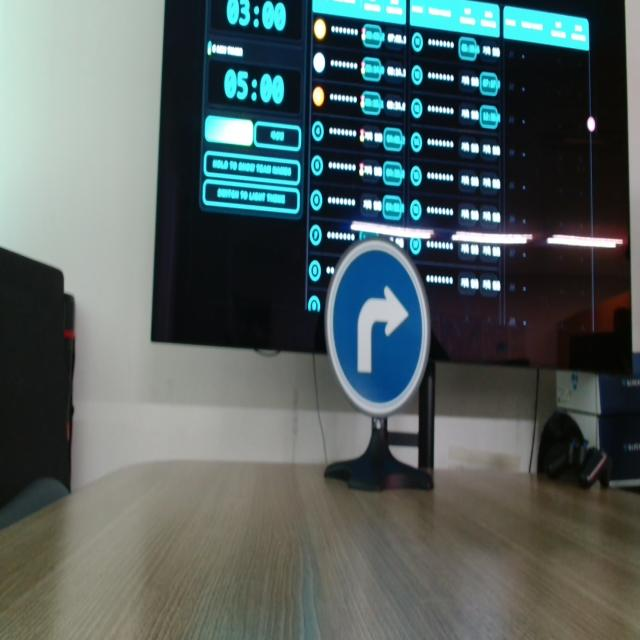right_dierection: (316, 222, 446, 424)
